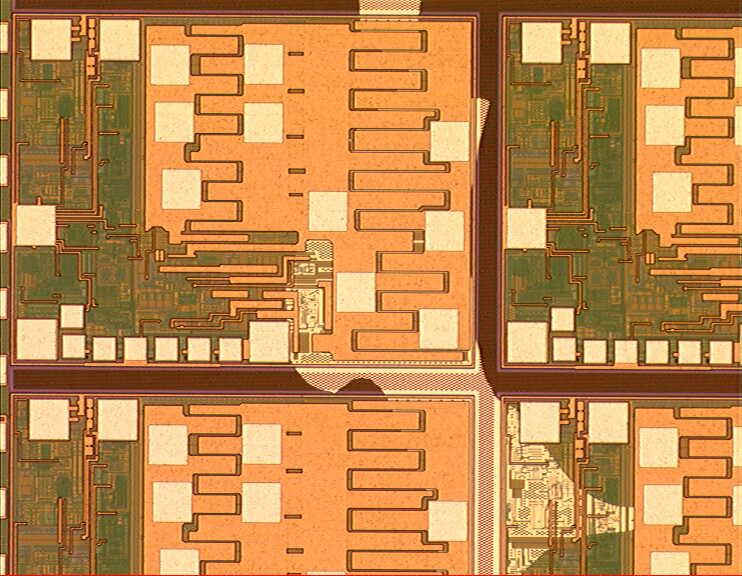BLOCK ETCH: (277, 1, 638, 576)
